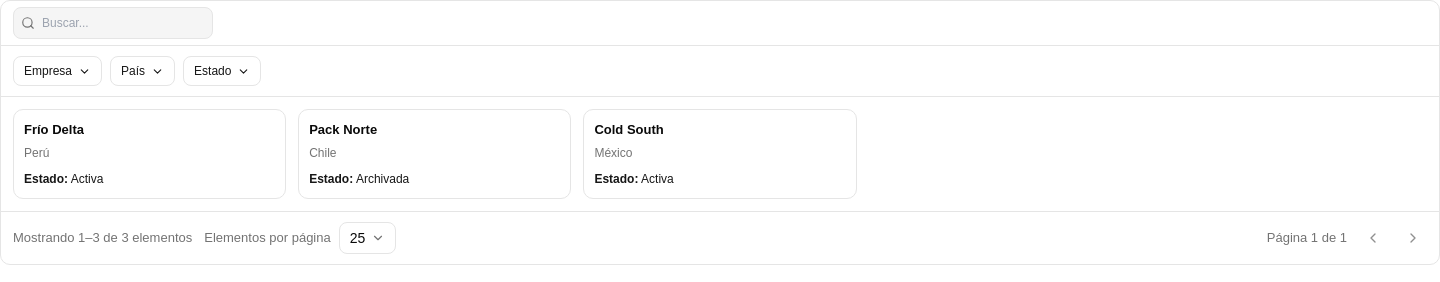
Test: shows emptyMessage when no card matches
In the search field: (113, 23) top-left (13, 7), bottom-right (213, 39), type "zzz"
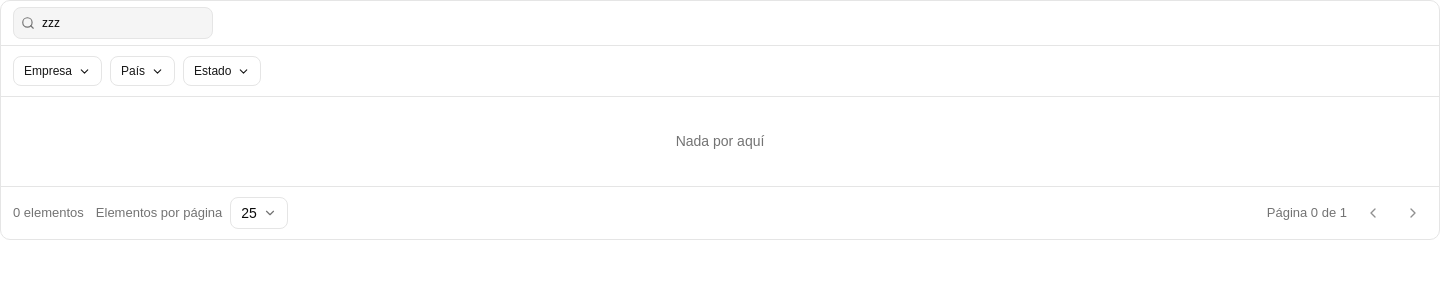
Now the list is gone
